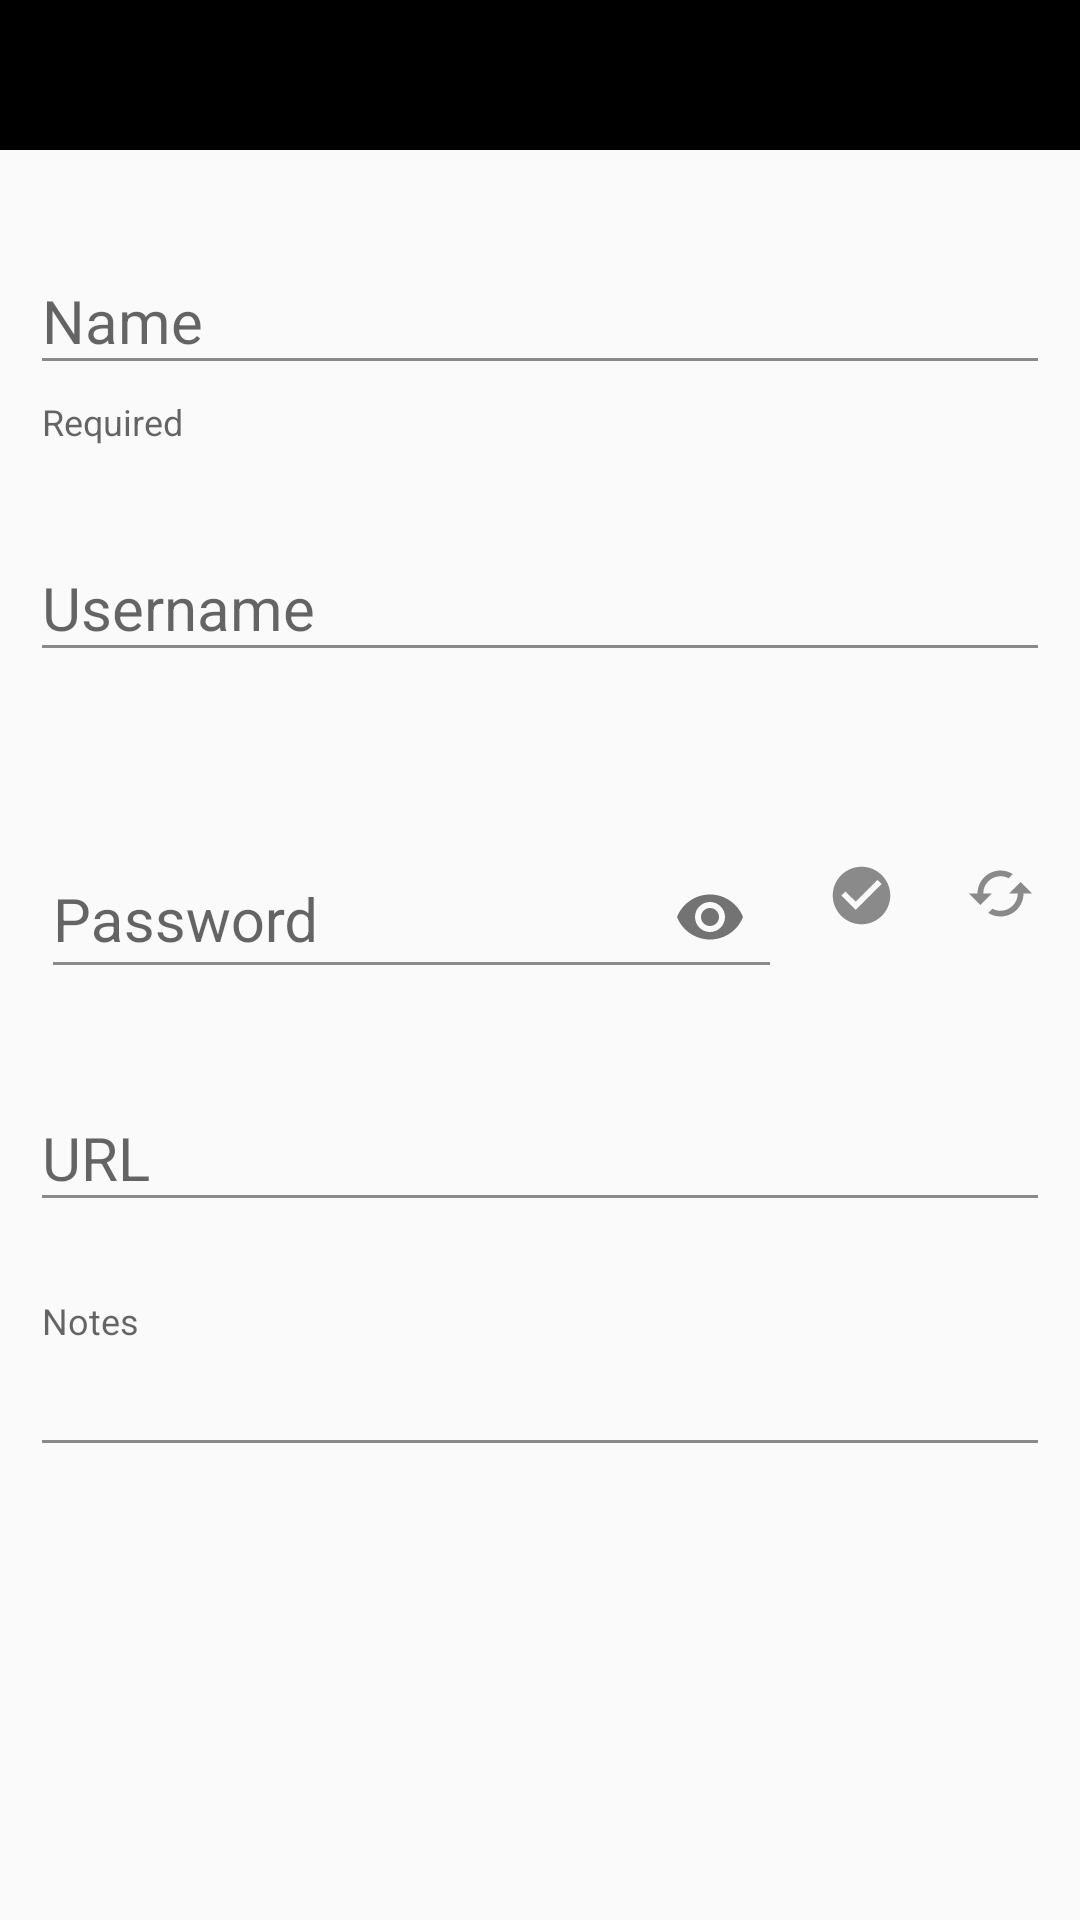

Named icons in this screenshot (1080 × 1920) and their centers, point (x, y):
cached: point (1000, 893)
check circle: point (861, 895)
